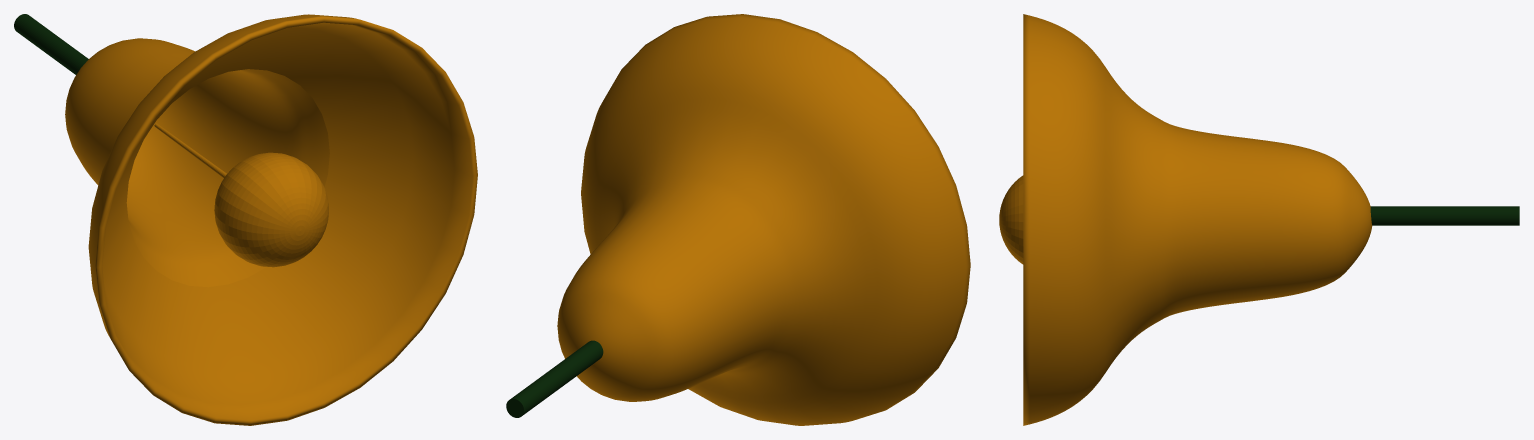
Rendered from obj2_sino.obj.
3 views of the same model, side by side, from view 1: azimuth 30°, elevation 25°; view 2: azimuth 150°, elevation 25°; view 3: azimuth 270°, elevation 25° (orthographic). The views are drawn at different scales.
Parts seen in each view (by area): view 1: BezierCurve.003_BezierCurve.002, Cylinder.002; view 2: BezierCurve.003_BezierCurve.002, Cylinder.002; view 3: BezierCurve.003_BezierCurve.002, Cylinder.002.
Part boxes in pixels (left/top/right/bottom): BezierCurve.003_BezierCurve.002: left=65, top=14, right=477, bottom=425; Cylinder.002: left=14, top=14, right=88, bottom=74; BezierCurve.003_BezierCurve.002: left=557, top=14, right=970, bottom=425; Cylinder.002: left=506, top=340, right=603, bottom=417; BezierCurve.003_BezierCurve.002: left=999, top=14, right=1372, bottom=425; Cylinder.002: left=1370, top=206, right=1519, bottom=225.
Bounding box in the file's own units: 1.52 × 1.52 × 1.92.
